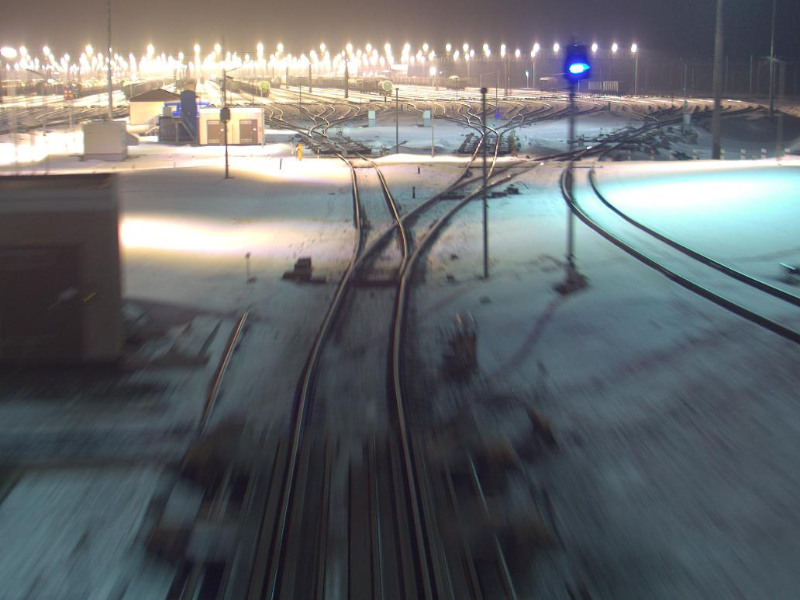right: (345, 215, 413, 274)
